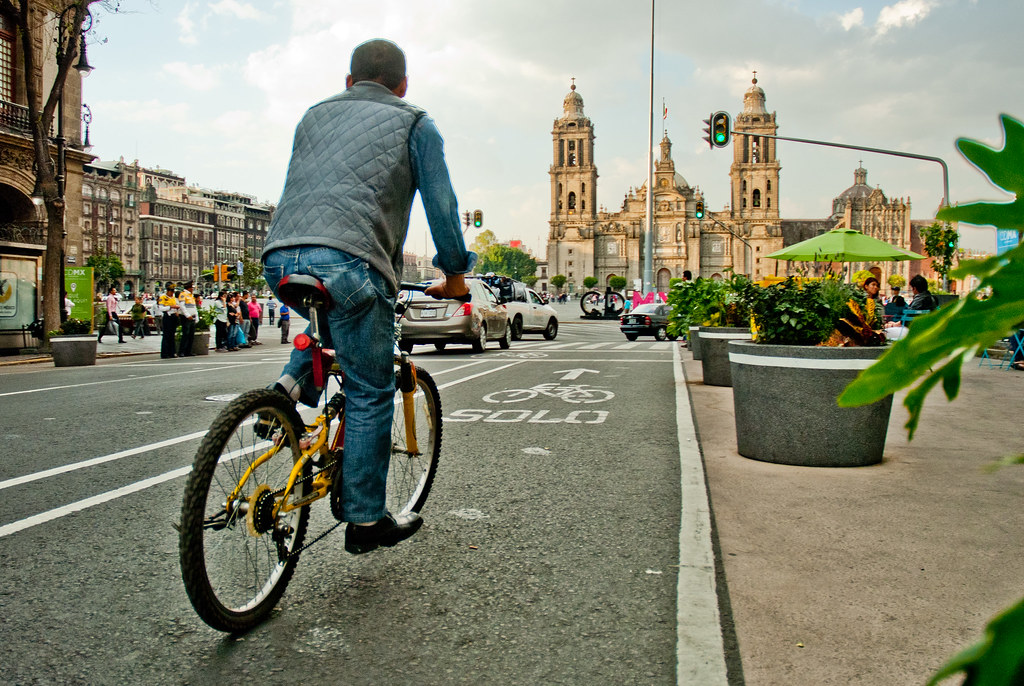commuter: (176, 38, 471, 649)
